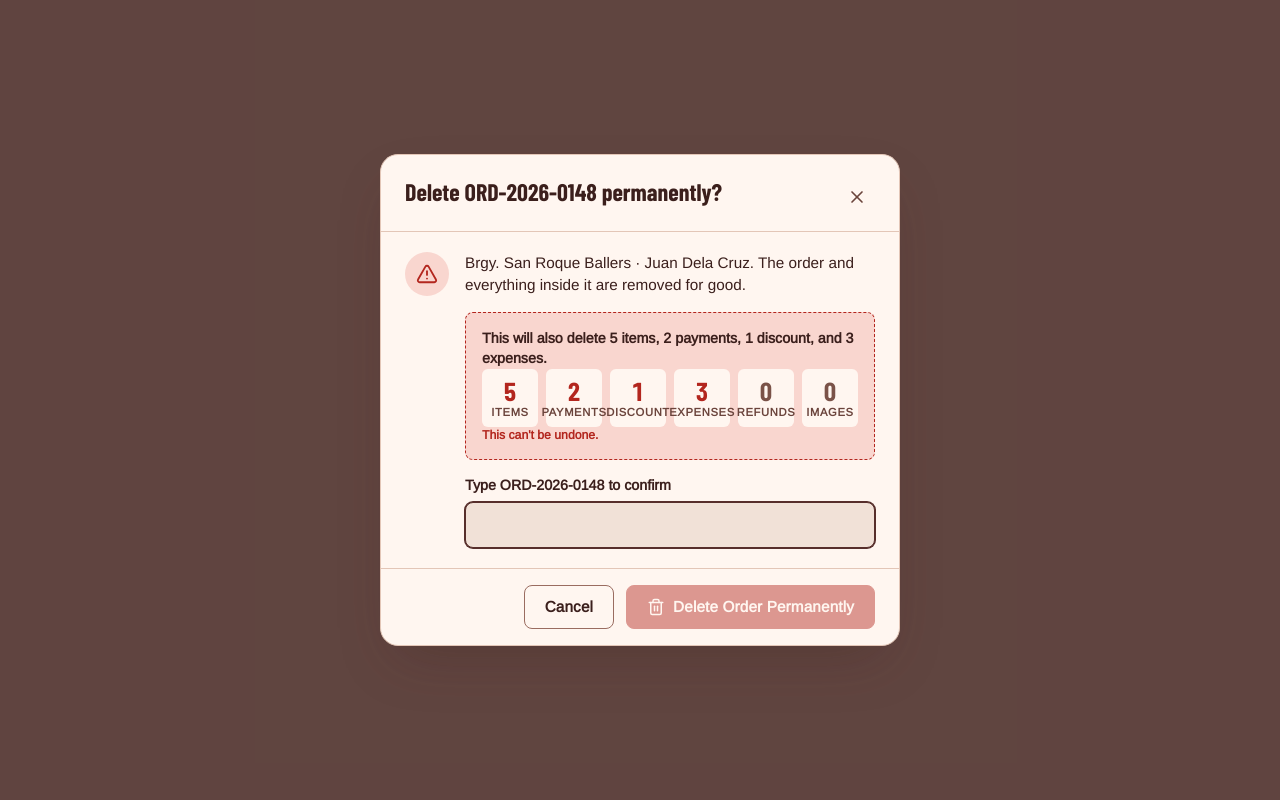
Scenario: deleting for good › keeps the dialog open with the mapper line on a server failure
Expected: the button "This will also delete 5 items, 2 payments, 1 discount, and 3 expenses." is shown, x1=482 y1=329 x2=858 y2=369
Type "ORD-2026-0148" into the field labelled "Type ORD-2026-0148 to confirm" at {"x": 670, "y": 525}, box x1=466 y1=503 x2=874 y2=547
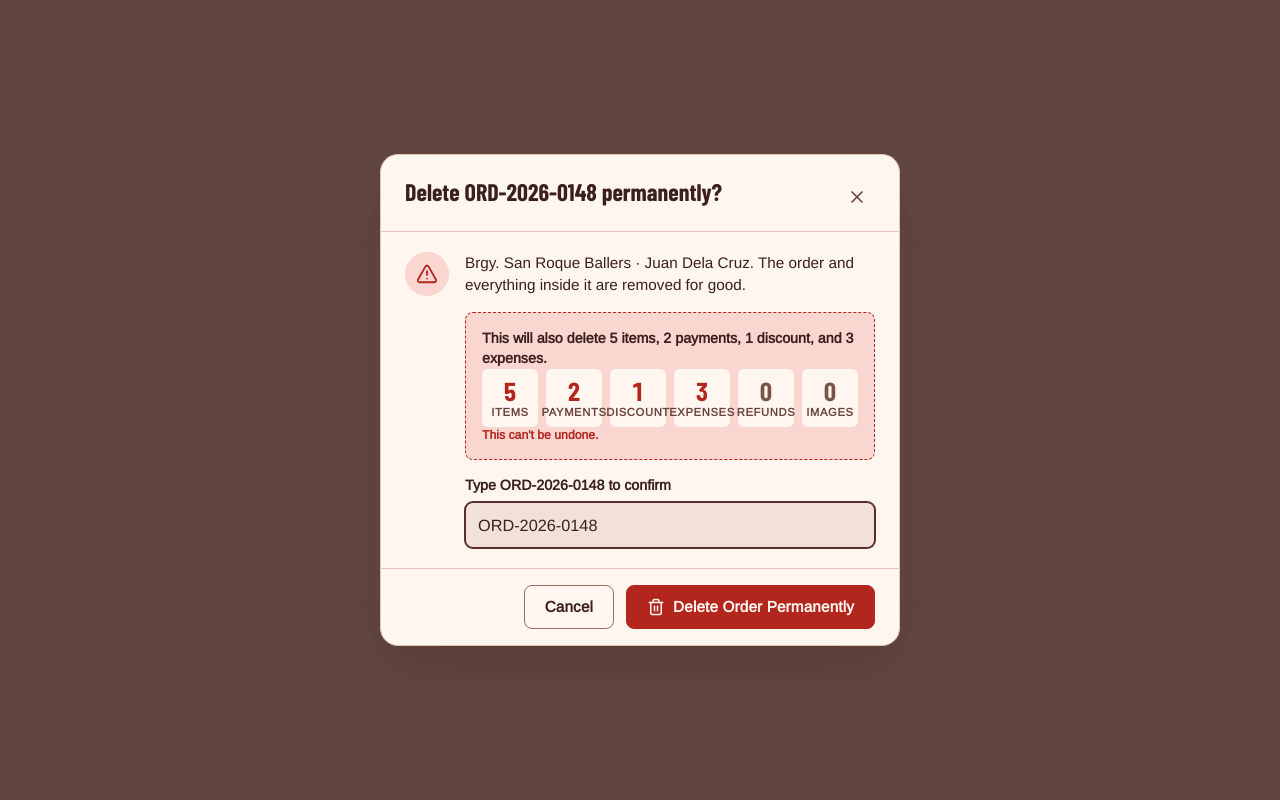
Click the button "Delete Order Permanently" at {"x": 751, "y": 607}, box x1=626 y1=585 x2=875 y2=629
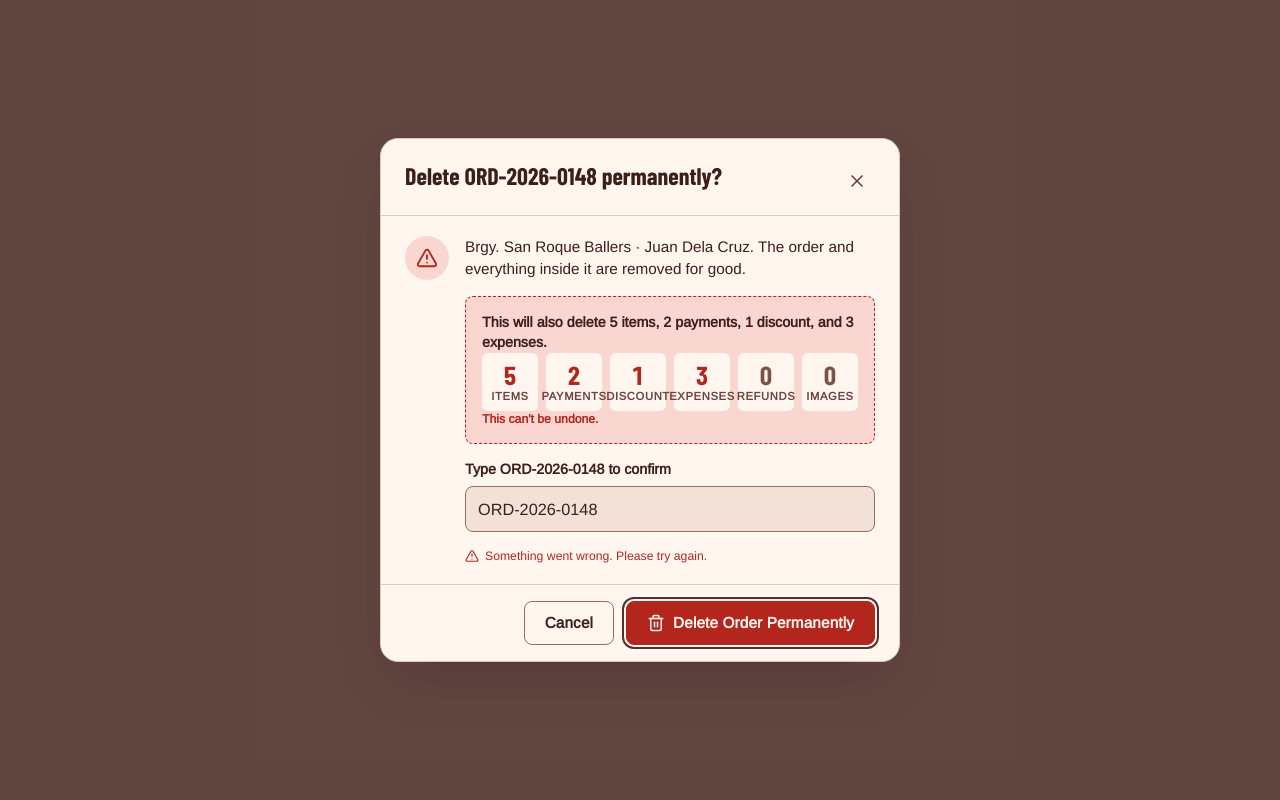
Now the text "Something went wrong. Please try again." is shown, box x1=465 y1=549 x2=707 y2=563
